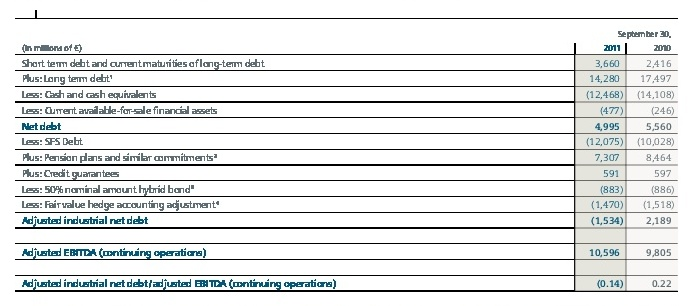table: (0, 0, 691, 306)
